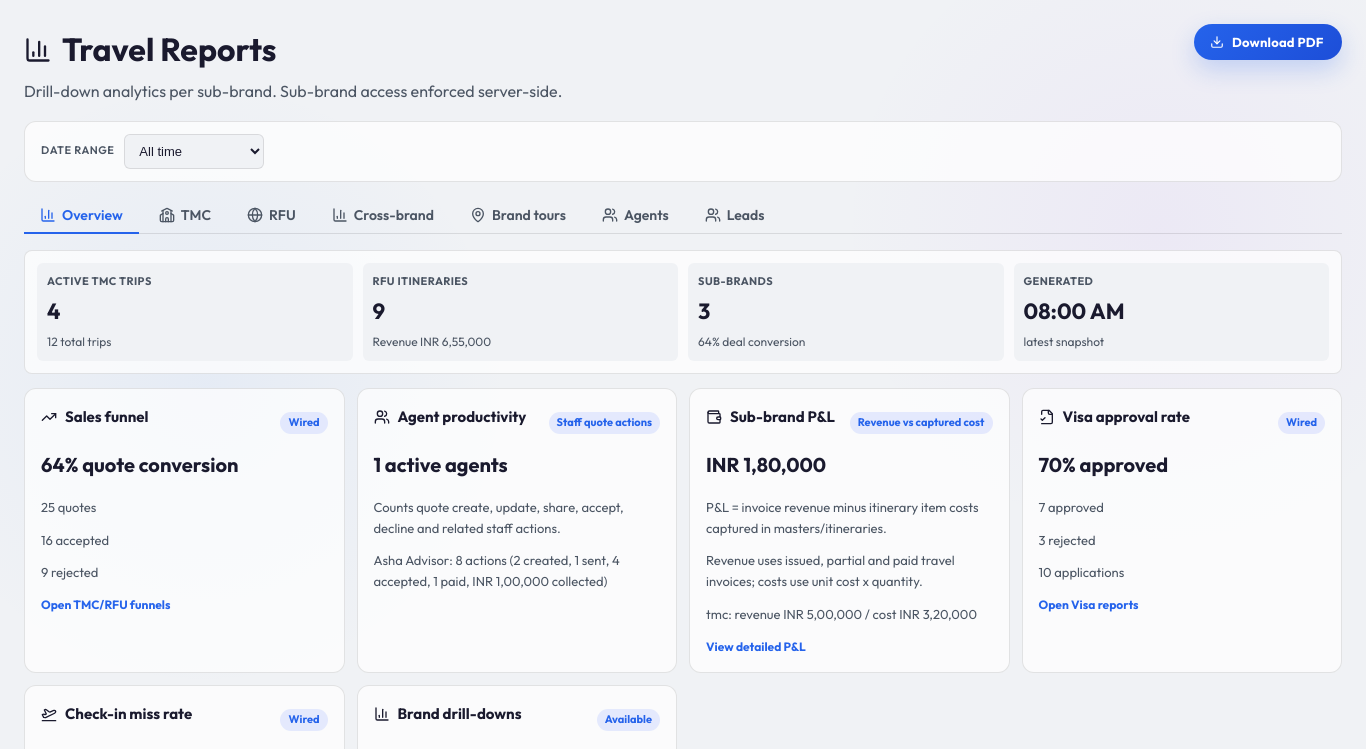
Test case: <TravelReports /> — TMC tab content › renders en-IN ₹-formatted revenue (12,34,567 grouping)
Check: the heading "Sales funnel" is shown, box [41,405,148,429]
Click the tab "TMC". click: (185,216)
box: [143,198,227,234]
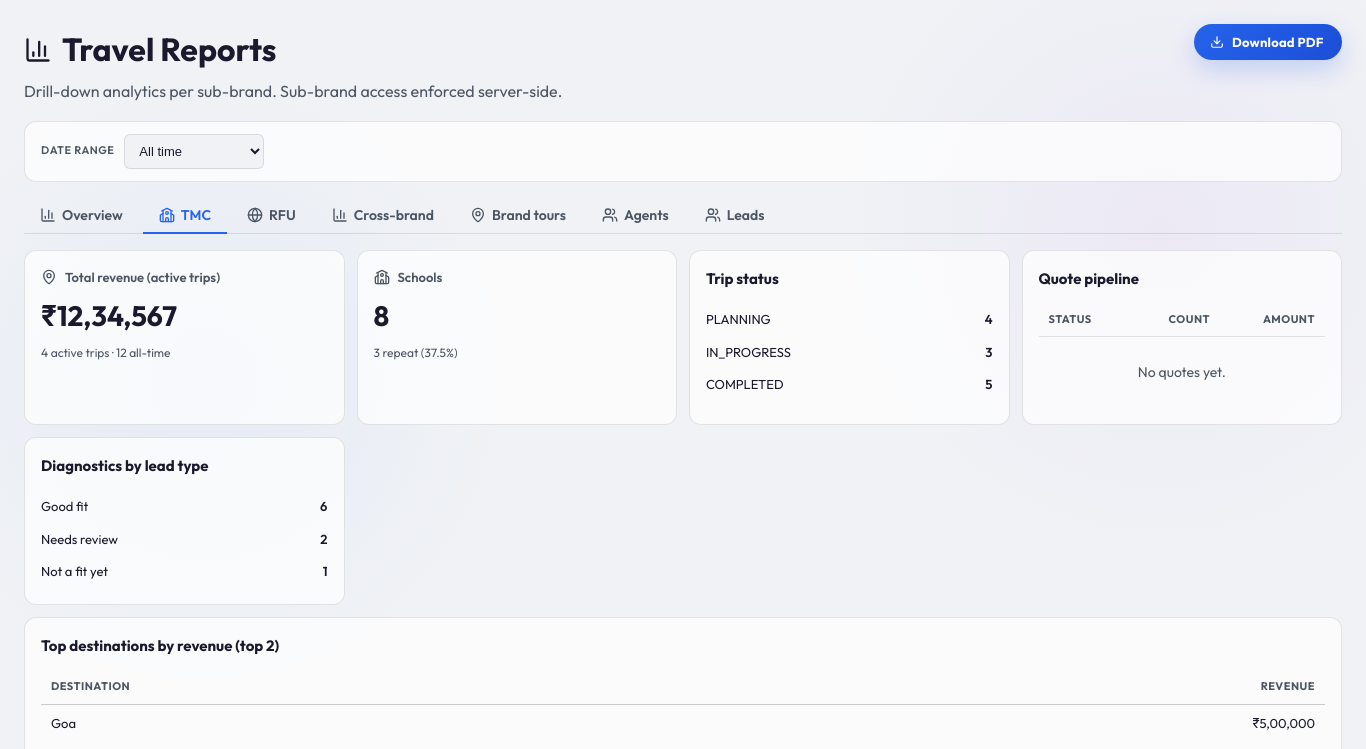
Check: the text "Total revenue (active trips)" is shown, box [41,269,220,285]
